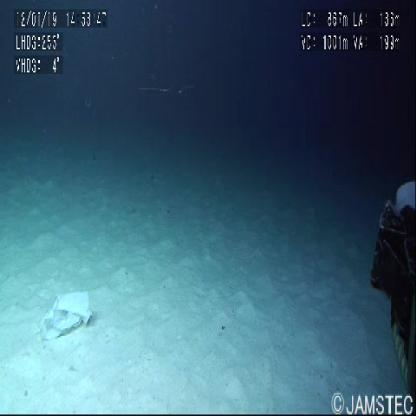Rác: (39, 291, 92, 342)
